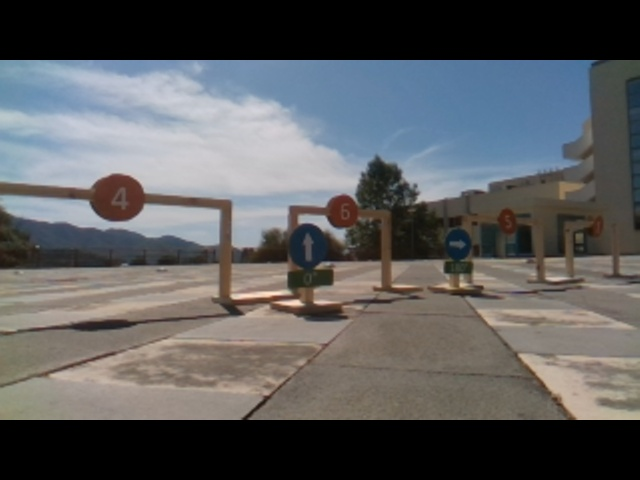0_degree: (286, 267, 335, 286)
180_degree: (443, 261, 472, 273)
arrow_right: (445, 228, 474, 261)
arrow_up: (286, 224, 329, 270)
checkpoint_foot: (214, 289, 275, 307), (372, 279, 424, 295)
checkpoint_side: (217, 195, 236, 300), (377, 207, 396, 286), (529, 213, 548, 278)
checkpoint_signal: (1, 179, 235, 214), (286, 203, 395, 220), (463, 213, 544, 232)
five: (497, 206, 519, 233)
four: (90, 174, 147, 221)
six: (329, 196, 361, 227)
